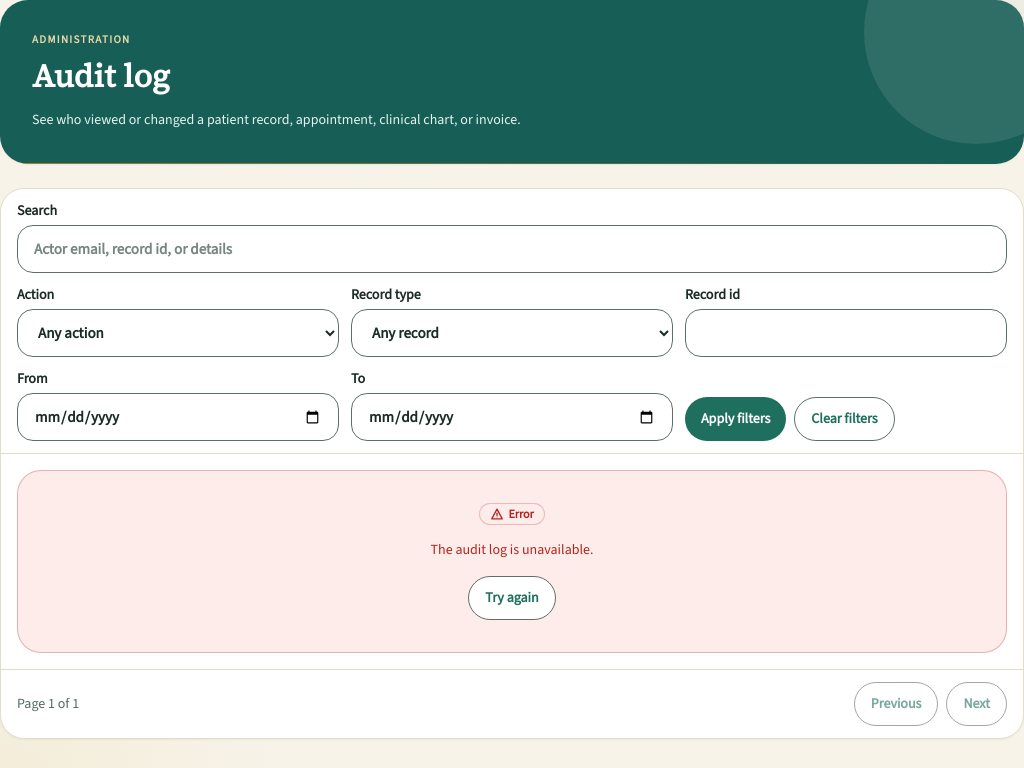
it: AuditLogsPage › shows an error and retries
Expected: the text "The audit log is unavailable." is shown, x1=431 y1=540 x2=594 y2=559
Click the button "Try again": {"x": 512, "y": 598} x1=468 y1=576 x2=556 y2=620
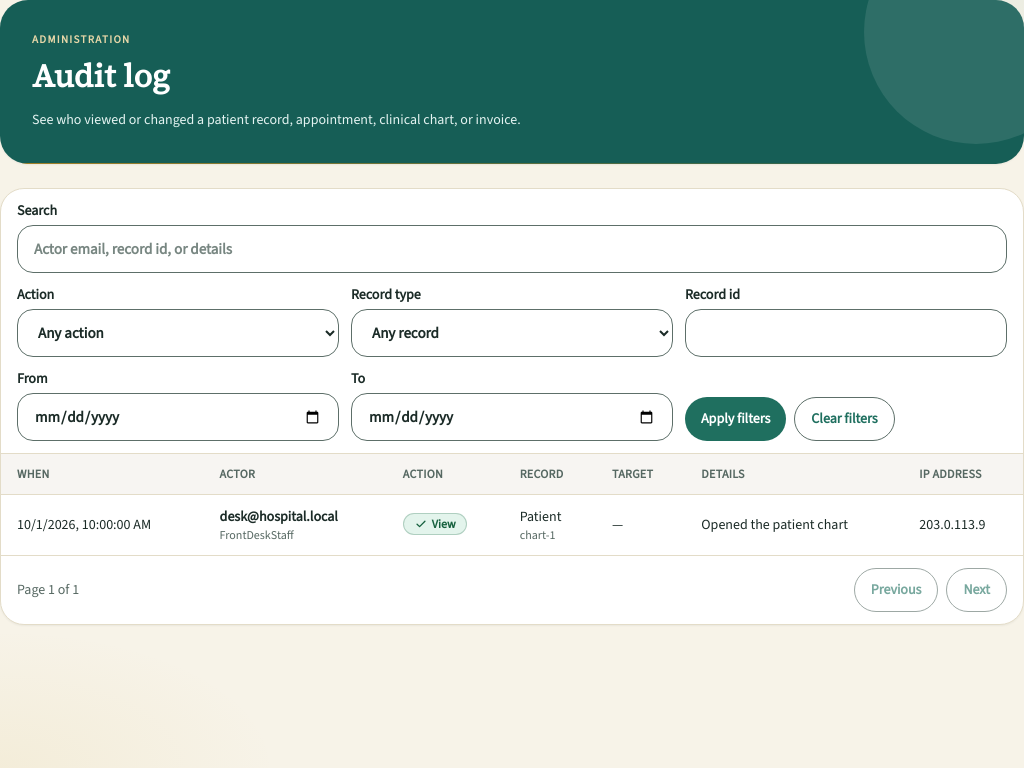
Now the text "desk@hospital.local" is shown, box x1=220 y1=507 x2=338 y2=526
